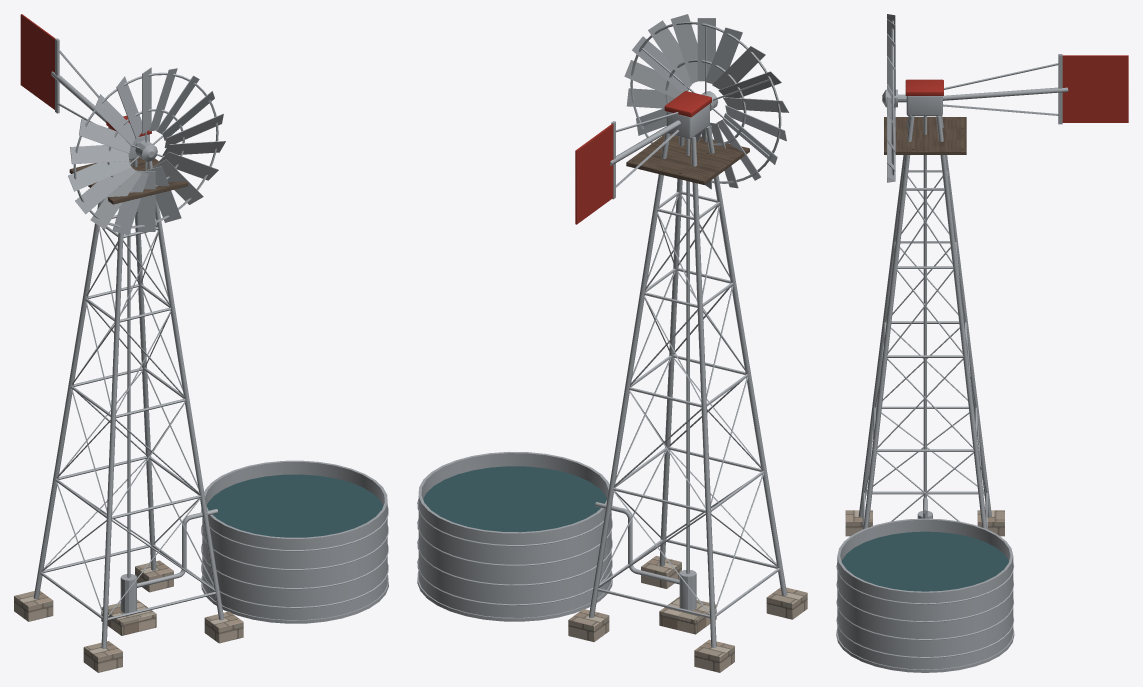
Rendered from farm-windpump.glb.
3 views of the same model, side by side, from view 1: azimuth 30°, elevation 25°; view 2: azimuth 150°, elevation 25°; view 3: azimuth 270°, elevation 25° (orthographic). The views are drawn at different scales.
Parts seen in each view (by area): view 1: Farm_Windpump, Rotor, Head; view 2: Farm_Windpump, Rotor, Head; view 3: Farm_Windpump, Head, Rotor.
Part boxes in pixels (left/top/right/bottom): Farm_Windpump: left=14, top=157, right=388, bottom=672; Rotor: left=68, top=67, right=225, bottom=235; Head: left=20, top=14, right=151, bottom=160; Farm_Windpump: left=417, top=125, right=807, bottom=672; Rotor: left=624, top=14, right=789, bottom=189; Head: left=575, top=91, right=711, bottom=224; Farm_Windpump: left=836, top=115, right=1014, bottom=672; Head: left=898, top=54, right=1128, bottom=124; Rotor: left=882, top=14, right=897, bottom=182.
Bounding box in the file's own units: 6.45 × 10.88 × 5.32.
5 materials, 2 textured.
